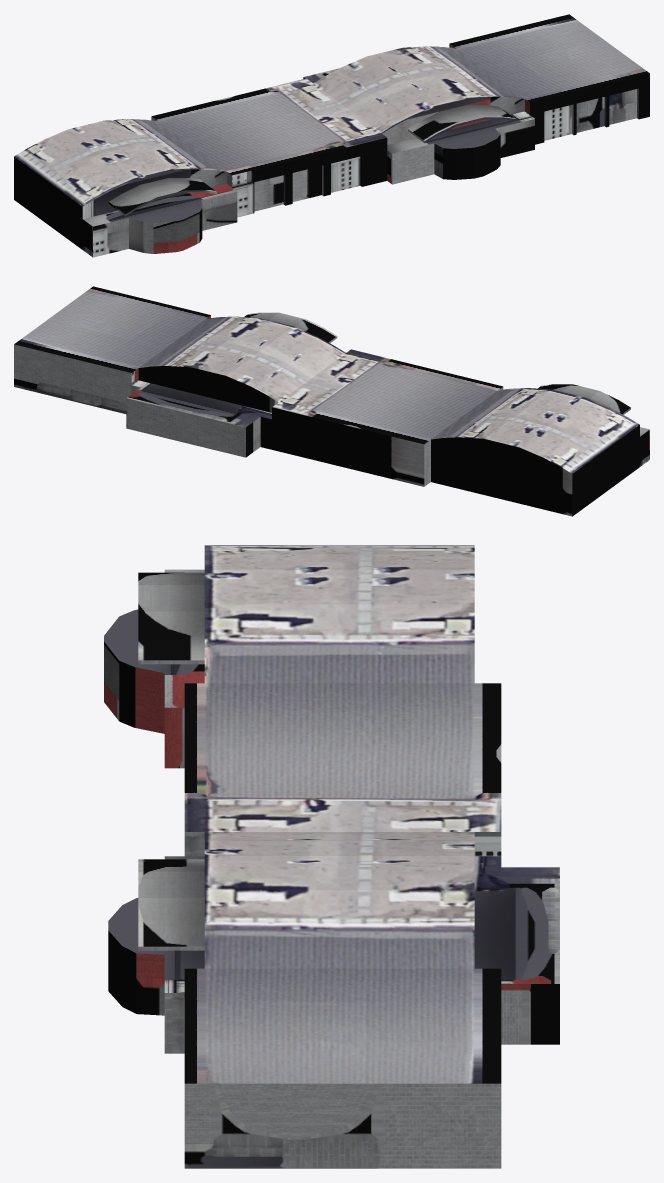
The model's file is FireStation.exact.glb.
The picture shows the model from 3 angles, top to bottom: view 1: azimuth 30°, elevation 25°; view 2: azimuth 150°, elevation 25°; view 3: azimuth 270°, elevation 25°; orthographic projection. The views are drawn at different scales.
Parts seen in each view (by area): view 1: FireStation; view 2: FireStation; view 3: FireStation.
Boxes of the visible parts, bbox=[...] form: FireStation: bbox=[14, 14, 649, 257]; FireStation: bbox=[14, 286, 649, 516]; FireStation: bbox=[104, 545, 559, 1168].
Size of the model in its own units: 95 by 9.25 by 33.98.
1 material, 1 textured.
